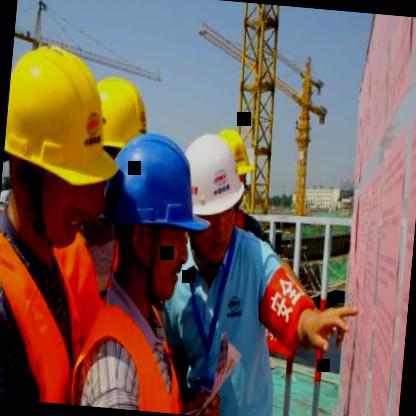helmet: (0, 30, 128, 263), (102, 116, 216, 299), (73, 69, 158, 234), (182, 132, 248, 254), (215, 122, 258, 190)
